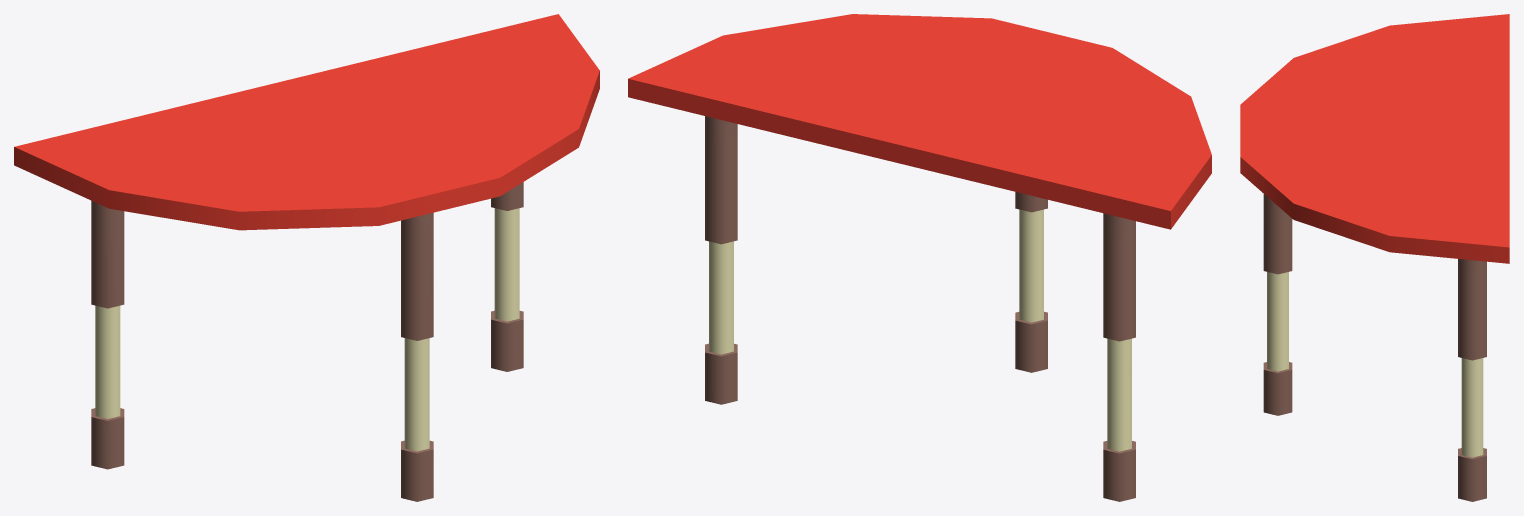
File: office_table_019.glb
3 renders of one model, left to right at view 1: azimuth 30°, elevation 25°; view 2: azimuth 150°, elevation 25°; view 3: azimuth 270°, elevation 25°, orthographic. The views are drawn at different scales.
Parts seen in each view (by area): view 1: office_table_019; view 2: office_table_019; view 3: office_table_019.
Boxes of the visible parts, left/top/right/bottom form: office_table_019: left=14, top=14, right=599, bottom=501; office_table_019: left=628, top=14, right=1211, bottom=501; office_table_019: left=1240, top=14, right=1509, bottom=501.
Bounding box in the file's own units: 0.9189 × 0.5111 × 0.448.
1 material, 1 textured.
